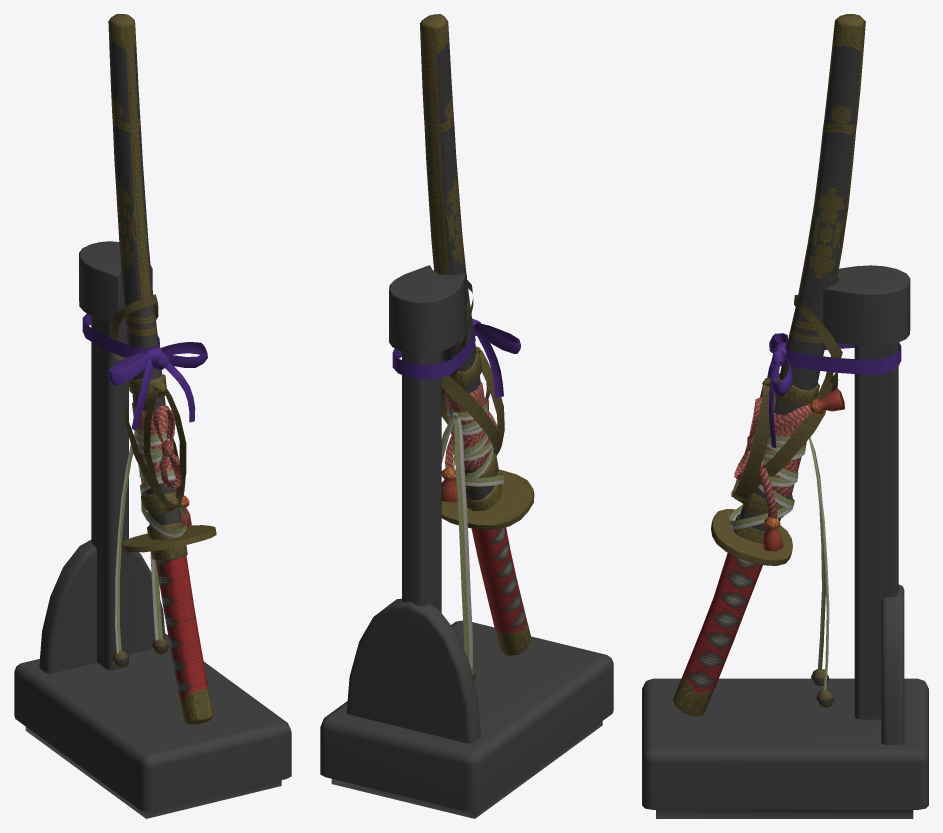
File: Sword01.fbx
3 views of the same model, side by side, from view 1: azimuth 30°, elevation 25°; view 2: azimuth 150°, elevation 25°; view 3: azimuth 270°, elevation 25° (orthographic). The views are drawn at different scales.
Parts seen in each view (by area): view 1: Sword01; view 2: Sword01; view 3: Sword01.
Part boxes in pixels (<box>): Sword01: <box>14,14,291,818</box>; Sword01: <box>320,14,613,818</box>; Sword01: <box>642,14,928,818</box>.
Size of the model in its own units: 20.82 by 94.78 by 32.13.
